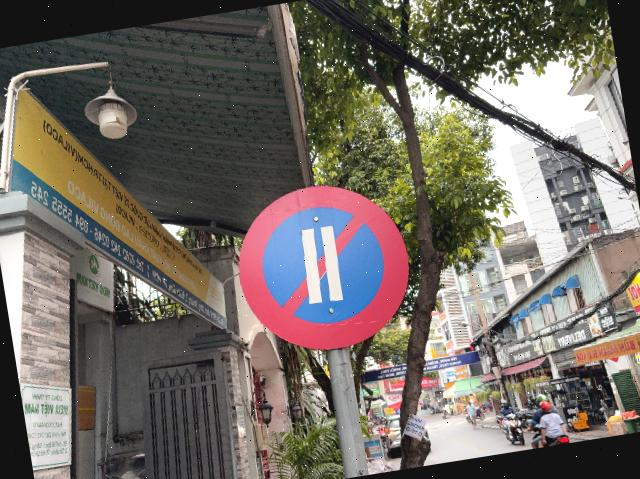cam-do-xe-ngay-chan: (226, 171, 422, 363)
